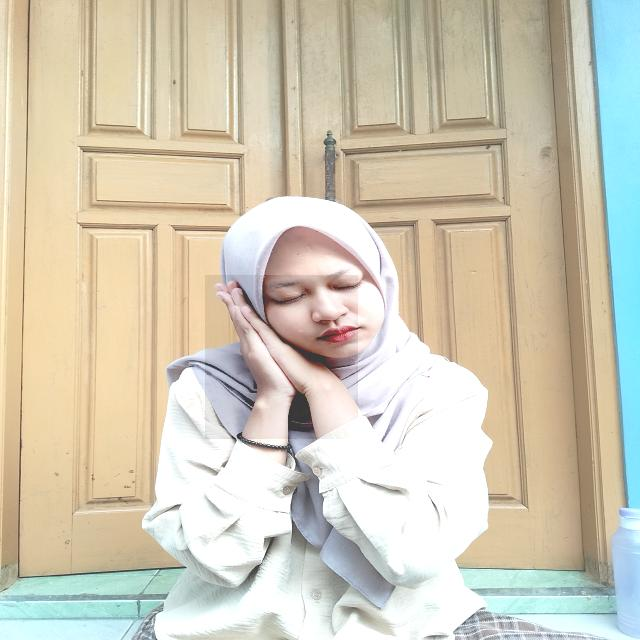tidur: (205, 275, 358, 439)
